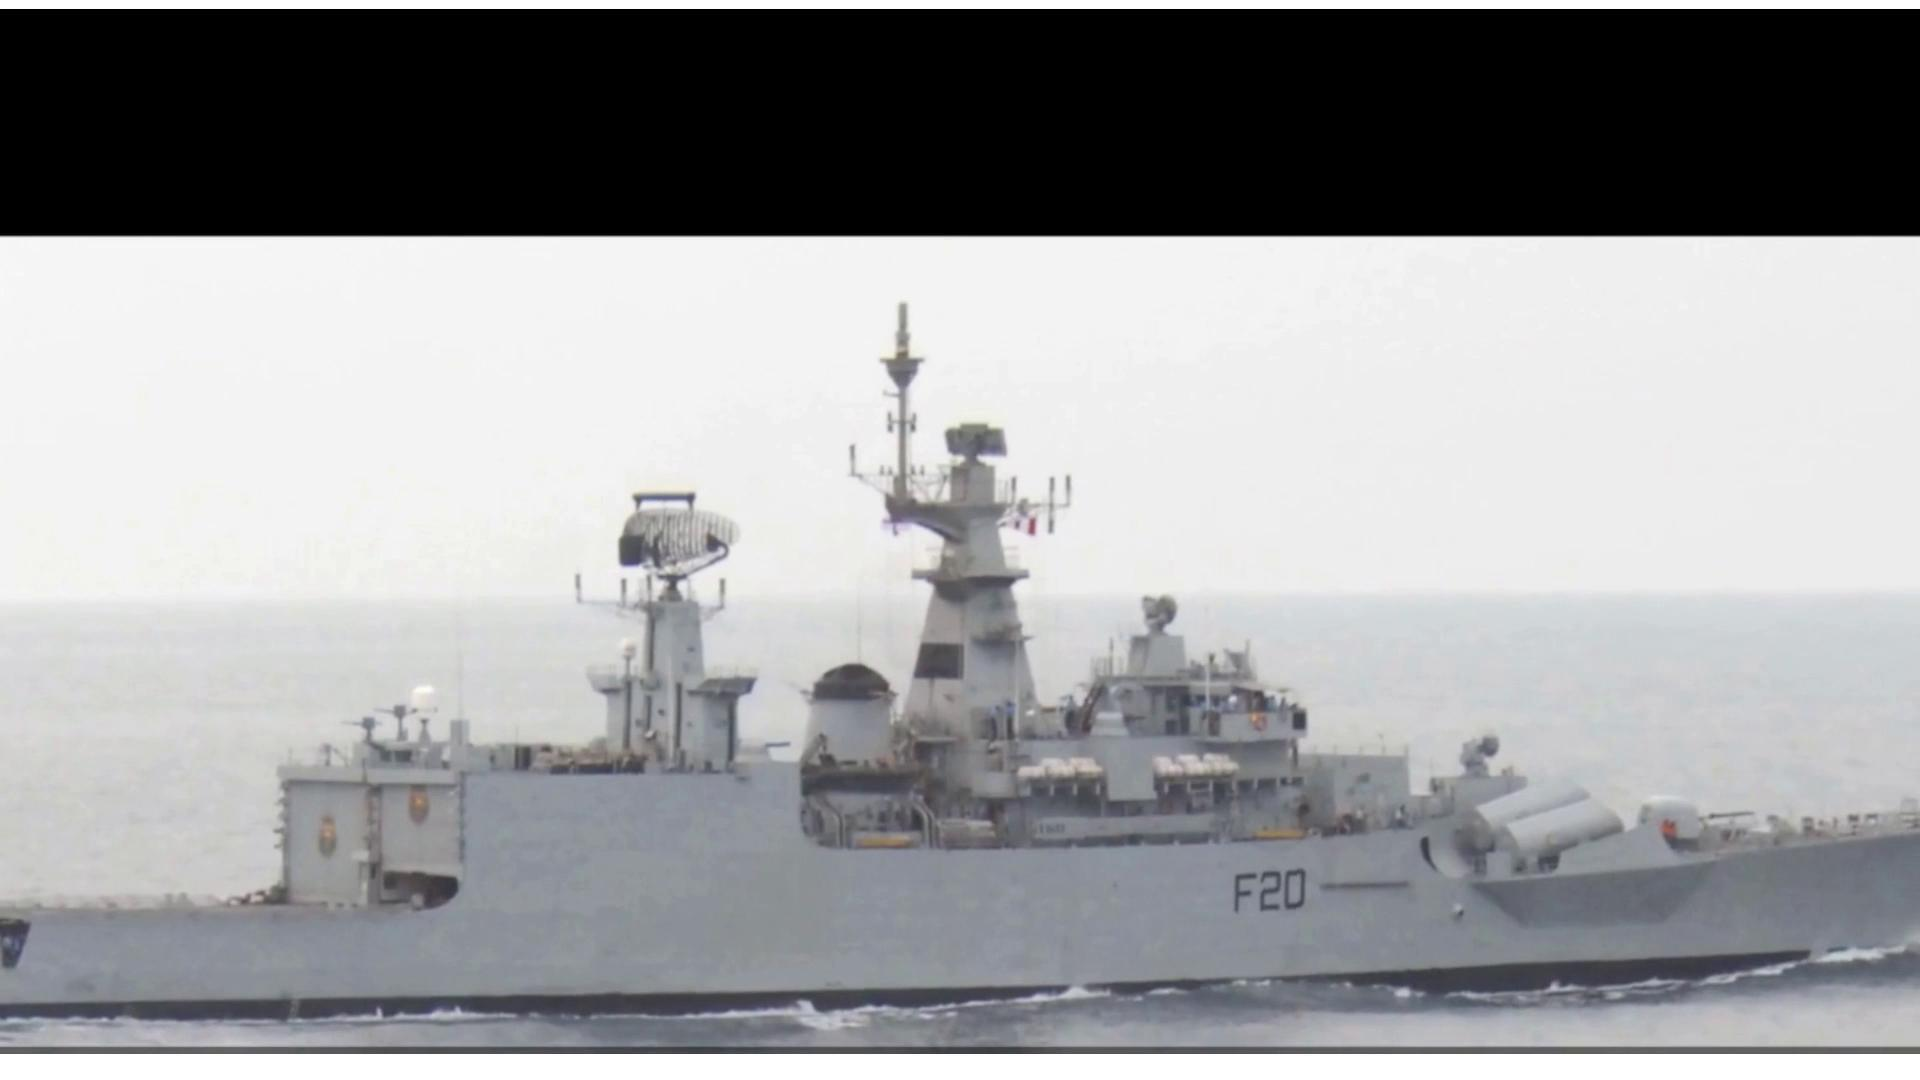OCR: (1212, 860, 1318, 929)
